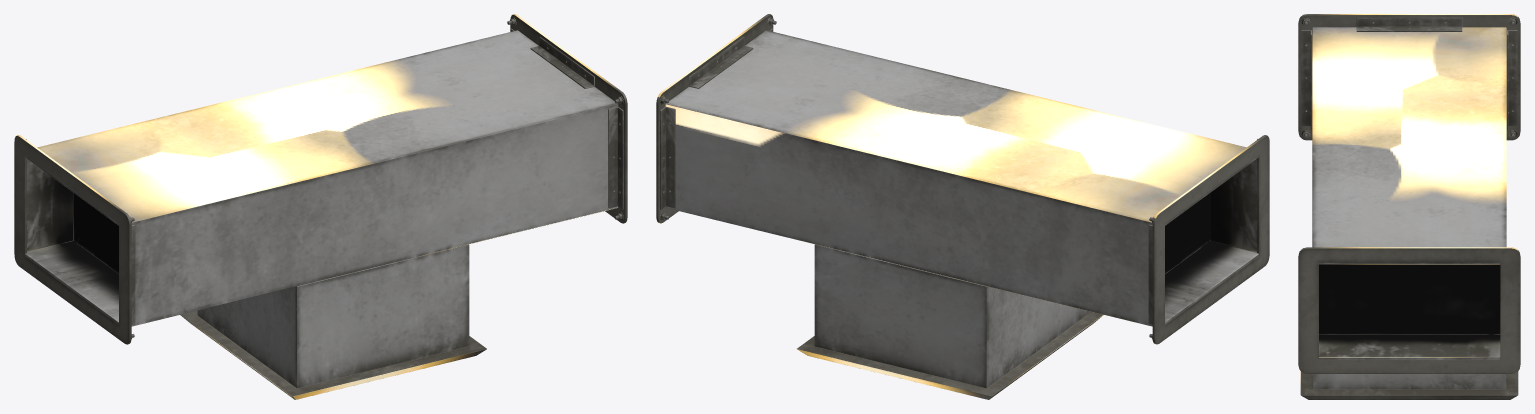
Rendered from SM_Ventilation_Set_03a.fbx.
3 renders of one model, left to right at view 1: azimuth 30°, elevation 25°; view 2: azimuth 150°, elevation 25°; view 3: azimuth 270°, elevation 25°, orthographic. The views are drawn at different scales.
Parts seen in each view (by area): view 1: SM_Ventilation_Set_03a_LOD0; view 2: SM_Ventilation_Set_03a_LOD0; view 3: SM_Ventilation_Set_03a_LOD0.
Boxes of the visible parts, x1,y1,x2,y2 form: SM_Ventilation_Set_03a_LOD0: (14,14,627,399); SM_Ventilation_Set_03a_LOD0: (656,14,1269,399); SM_Ventilation_Set_03a_LOD0: (1298,14,1520,399).
Bounding box in the file's own units: 200 × 80 × 87.73.
